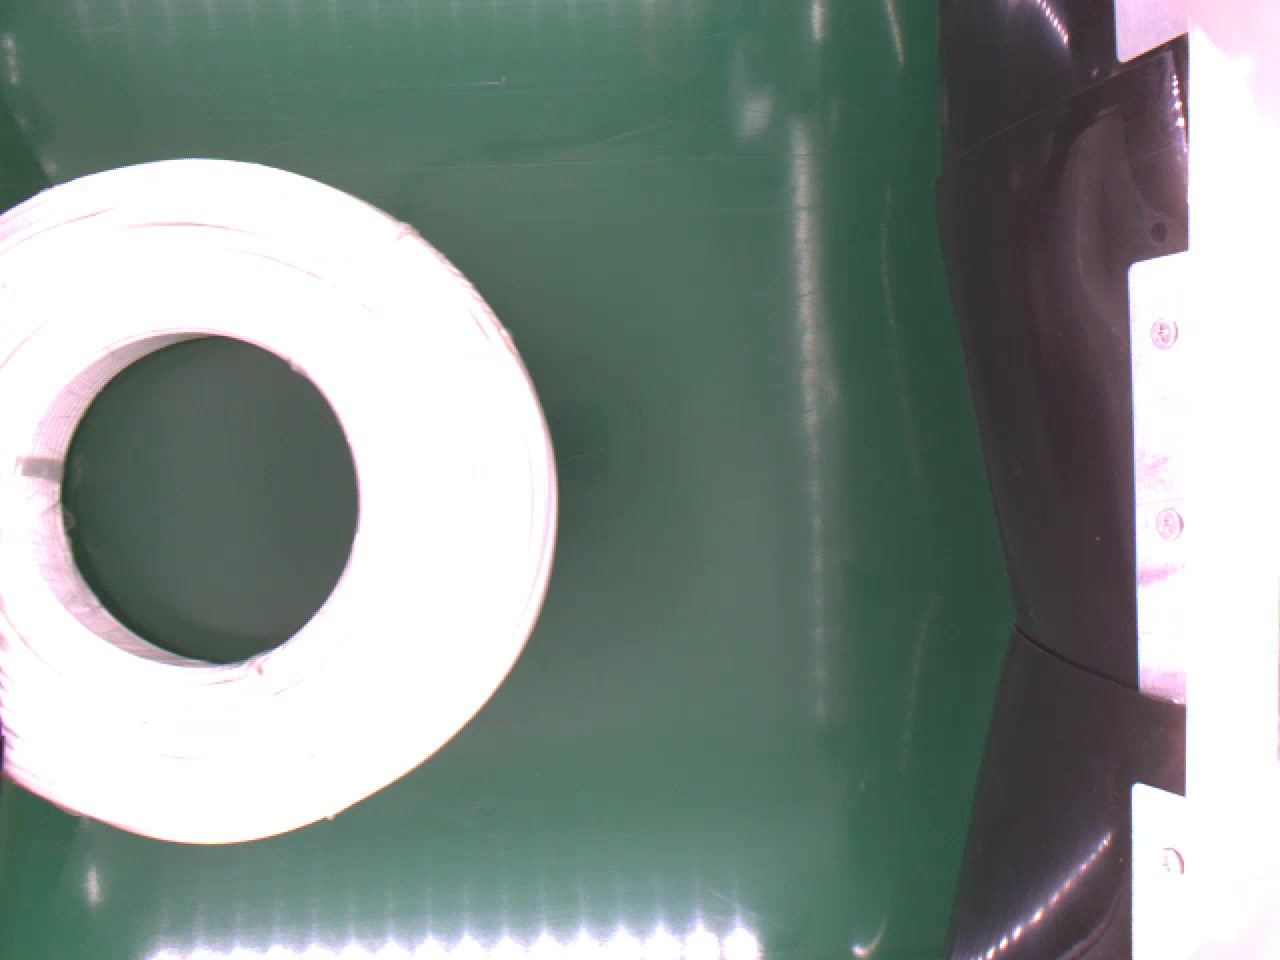white: (0, 154, 561, 849)
